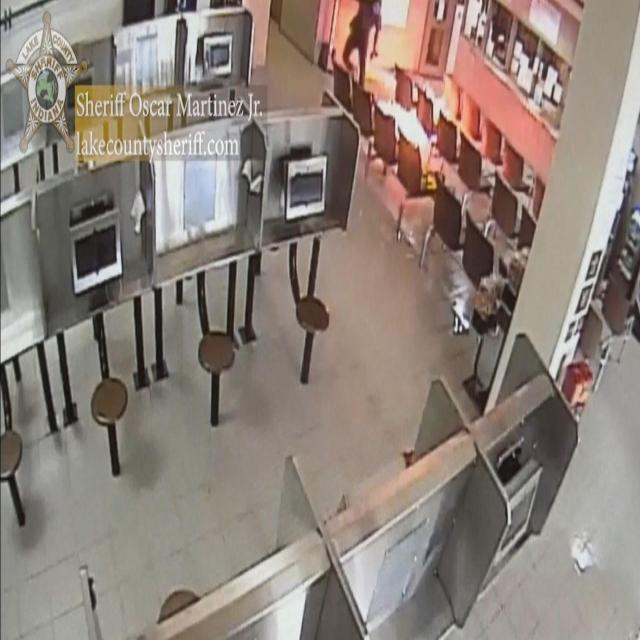fire: (377, 68, 449, 148)
